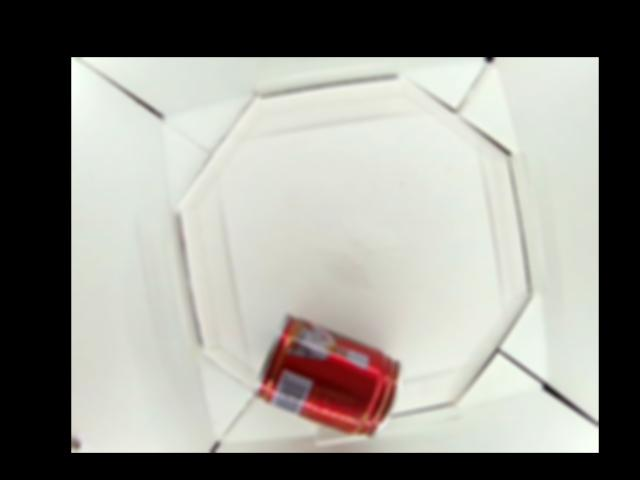Bottle: (251, 313, 406, 441)
